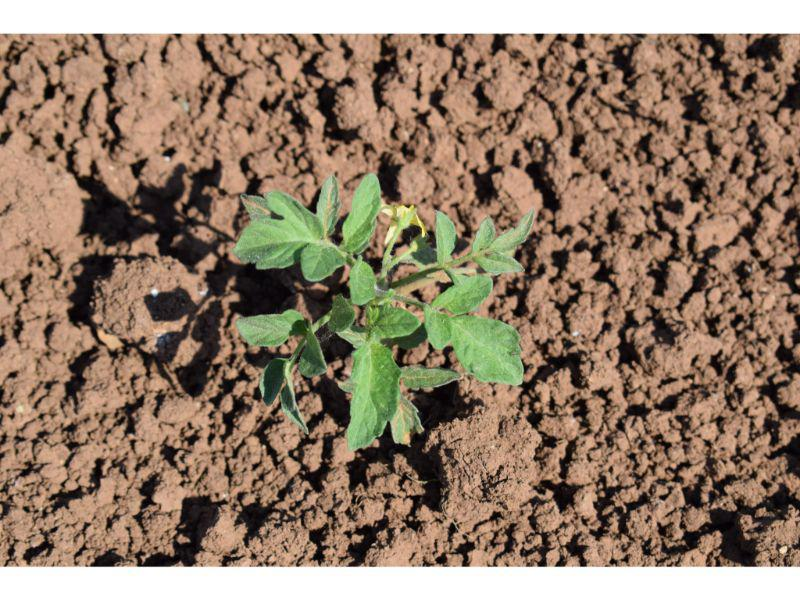tomato: (235, 171, 536, 450)
